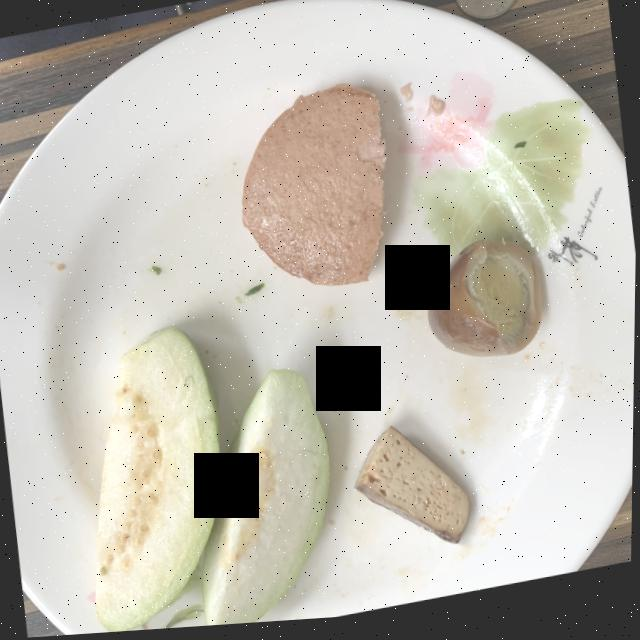Spam: (242, 87, 386, 289)
coin: (455, 0, 517, 24)
firm tofu: (355, 431, 471, 549)
guava -sliced-: (96, 328, 330, 633)
soy egg: (428, 246, 542, 362)
